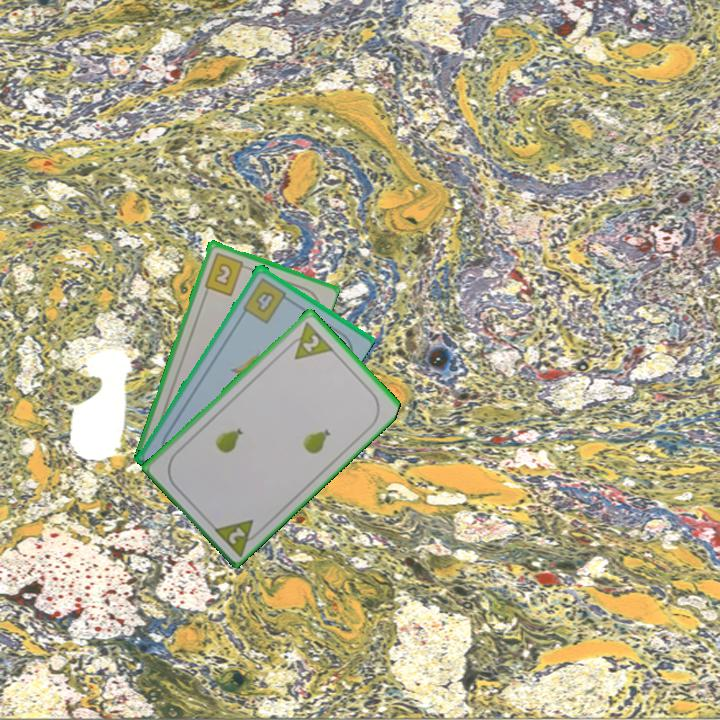2b: (201, 249, 251, 298)
2p: (209, 515, 265, 558), (282, 318, 336, 362)
4b: (239, 274, 293, 326)
